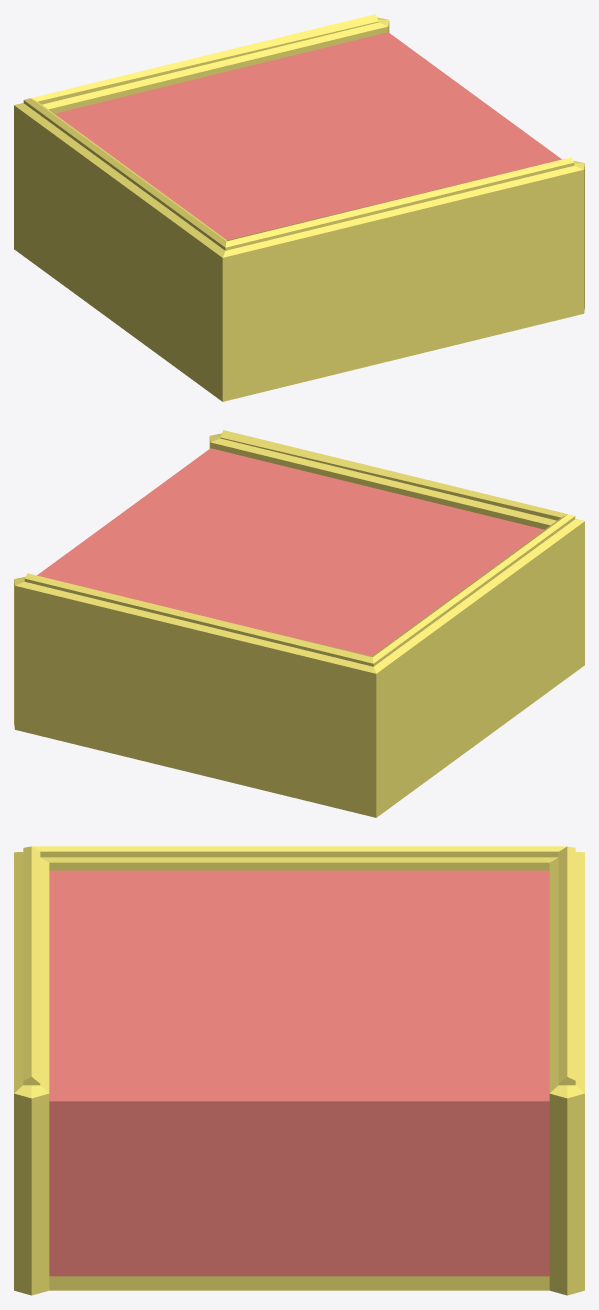
Rendered from Plataforma_do_respawn.fbx.
3 renders of one model, top to bottom at view 1: azimuth 30°, elevation 25°; view 2: azimuth 150°, elevation 25°; view 3: azimuth 270°, elevation 25°, orthographic. The views are drawn at different scales.
Parts seen in each view (by area): view 1: Campo_1.002; view 2: Campo_1.002; view 3: Campo_1.002.
Part boxes in pixels (bbox=[...]): Campo_1.002: bbox=[14, 14, 584, 401]; Campo_1.002: bbox=[14, 430, 584, 817]; Campo_1.002: bbox=[14, 846, 584, 1295].
Bounding box in the file's own units: 4082 × 1621 × 4000.
